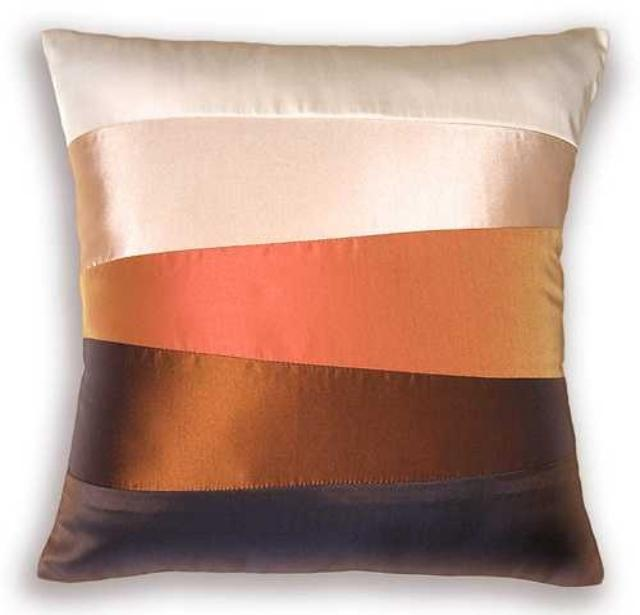pillow: (35, 23, 609, 587)
